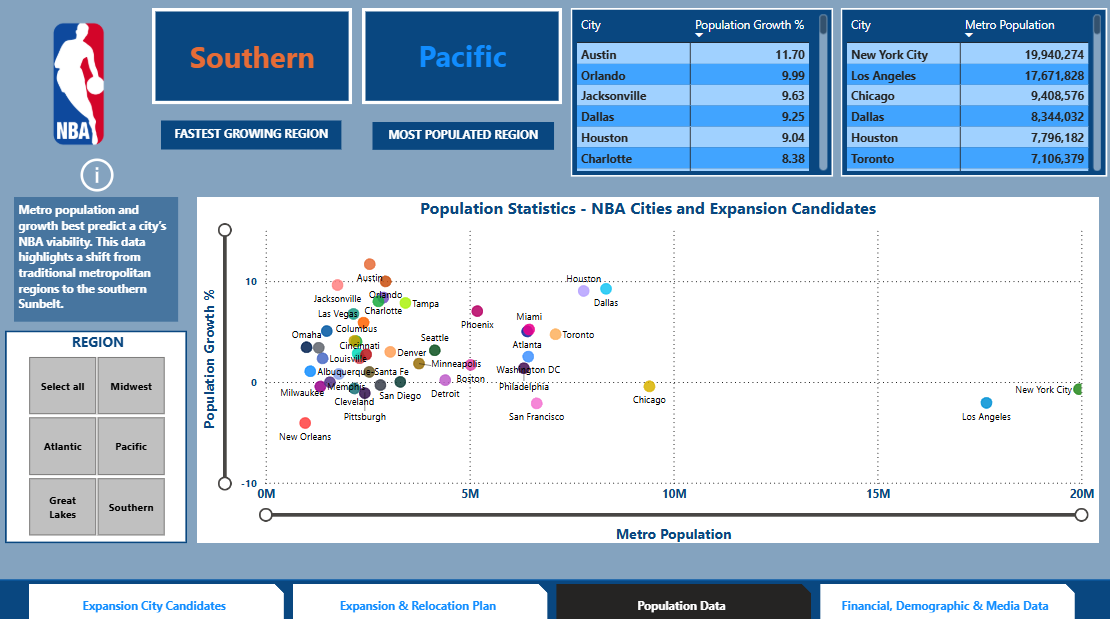

What the dashboard file says about the page in this screenshot:
{"tool":"powerbi","page":{"name":"Population Data","canvas":[1280,720],"ordinal":2},"visuals":[{"type":"shape","title":"Navigation Bar","box":[0,666.4,1280,53.9],"z":0},{"type":"image","title":"NBA Logo","box":[6.8,10.7,169.2,175.1],"z":1000},{"type":"card","fields":{"Values":["Min(Region Lookup.Region)"]},"box":[175.3,10.9,229.8,110.8],"z":2000},{"type":"pivotTable","fields":{"Rows":["All Cities WCS.City Name"],"Values":["Measure Table.Population Growth %"]},"box":[657,10.3,302.2,193.9],"z":3000},{"type":"scatterChart","title":"Population Statistics - NBA Cities and Expansion Candidates","fields":{"Category":["All Cities WCS.City Name"],"Y":["Measure Table.Population Growth %"],"X":["Measure Table.Total Metro Population"],"Series":["All Cities WCS.City ID"]},"box":[226.9,227.9,1036.6,397.1],"z":4000},{"type":"slicer","title":"REGION","fields":{"Values":["All Cities WCS.Region"]},"box":[7.2,380.6,209.4,244.4],"z":5000},{"type":"pivotTable","fields":{"Rows":["All Cities WCS.City Name"],"Values":["Measure Table.Total Metro Population"]},"box":[966.6,10.9,306.5,194.1],"z":6000},{"type":"textbox","box":[185.7,140.3,207.3,33],"z":7000},{"type":"card","fields":{"Values":["Min(Region Lookup.Region)"]},"box":[418,10.9,230.3,110.6],"z":8000},{"type":"textbox","box":[429.1,141.3,208.3,32],"z":9000},{"type":"actionButton","box":[87.7,178.4,49.5,49.5],"z":10000},{"type":"textbox","box":[17.5,227.9,188.8,143.4],"z":11000},{"type":"pageNavigator","box":[35,673,1203,42],"z":12000}]}

Visuals, with their boxes in screenshot pixels (x1, y1, x2, y2), scaled from the page's 1280x720 canvas onto the 1110x619 screenshot:
"Navigation Bar" shape: <bbox>0, 573, 1109, 618</bbox>
"NBA Logo" image: <bbox>6, 9, 153, 160</bbox>
card - Min(Region Lookup.Region): <bbox>152, 9, 351, 105</bbox>
pivotTable - All Cities WCS.City Name x Measure Table.Population Growth %: <bbox>570, 9, 832, 176</bbox>
"Population Statistics - NBA Cities and Expansion Candidates" scatterChart: <bbox>197, 196, 1096, 537</bbox>
"REGION" slicer: <bbox>6, 327, 188, 537</bbox>
pivotTable - All Cities WCS.City Name x Measure Table.Total Metro Population: <bbox>838, 9, 1104, 176</bbox>
textbox: <bbox>161, 121, 341, 149</bbox>
card - Min(Region Lookup.Region): <bbox>362, 9, 562, 104</bbox>
textbox: <bbox>372, 121, 553, 149</bbox>
actionButton: <bbox>76, 153, 119, 196</bbox>
textbox: <bbox>15, 196, 179, 319</bbox>
pageNavigator: <bbox>30, 579, 1074, 615</bbox>
